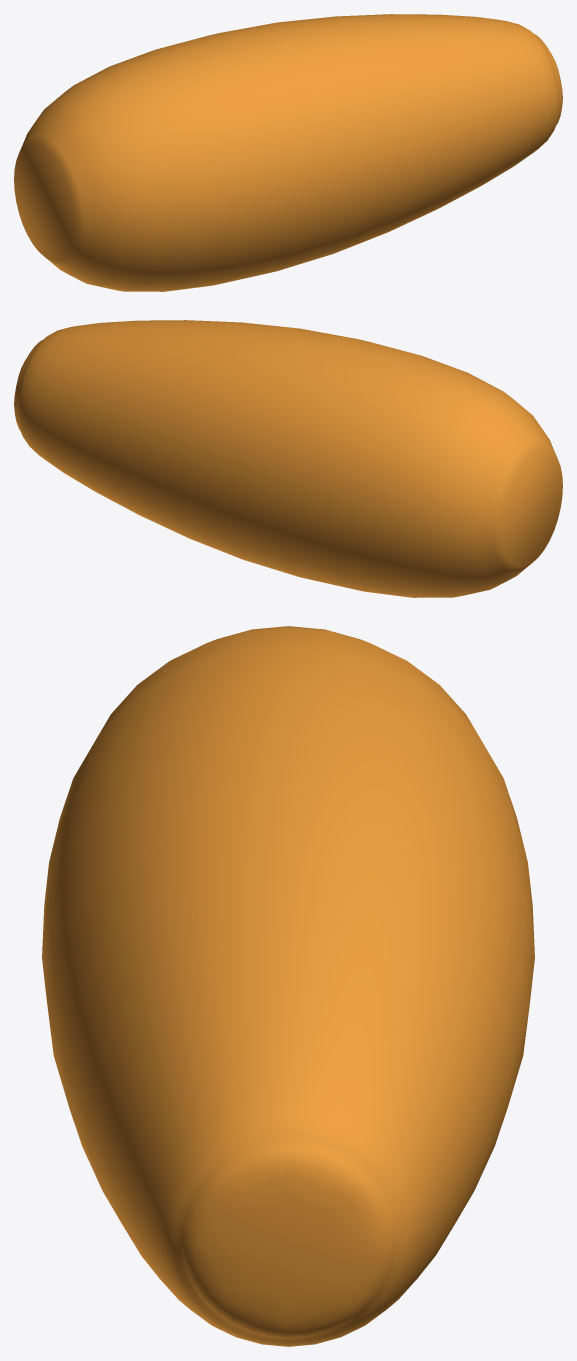
Rendered from CornSeed.fbx.
3 views of the same model, one above another, from view 1: azimuth 30°, elevation 25°; view 2: azimuth 150°, elevation 25°; view 3: azimuth 270°, elevation 25° (orthographic). The views are drawn at different scales.
Parts seen in each view (by area): view 1: Corn_Seed; view 2: Corn_Seed; view 3: Corn_Seed.
Part boxes in pixels (box(x1,y1,x2,y2)): Corn_Seed: box(14, 14, 562, 291); Corn_Seed: box(14, 320, 562, 597); Corn_Seed: box(42, 626, 534, 1346).
Size of the model in its own units: 6.11 by 2.61 by 2.61.
